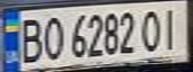2: (84, 10, 106, 57), (118, 8, 139, 55)
6: (66, 11, 87, 58)
8: (103, 9, 124, 56)
B: (15, 15, 45, 63)
I: (157, 4, 184, 51)
O: (39, 12, 66, 62), (139, 7, 166, 53)
